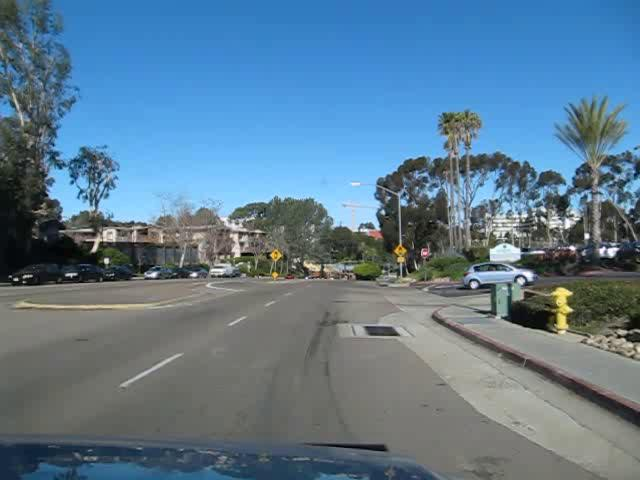signalAhead: (392, 244, 407, 257), (269, 247, 281, 260)
